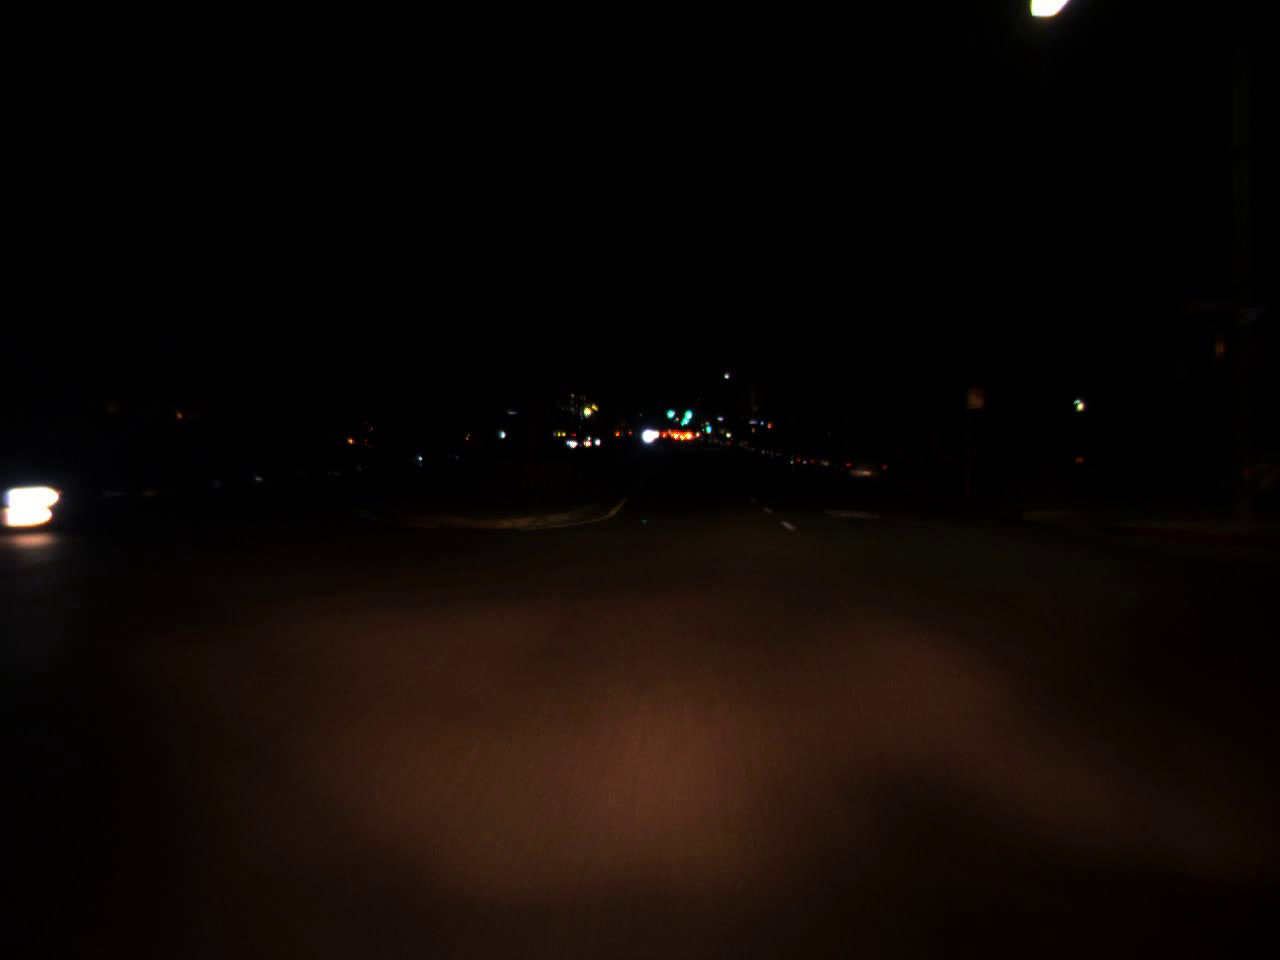go: (680, 399, 694, 419), (665, 400, 675, 421), (703, 417, 711, 435)
